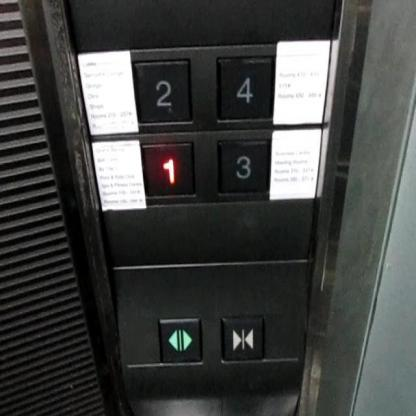1: (140, 142, 192, 197)
2: (132, 59, 192, 125)
3: (215, 140, 269, 193)
4: (214, 56, 274, 121)
close: (223, 317, 264, 361)
open: (158, 317, 202, 363)
